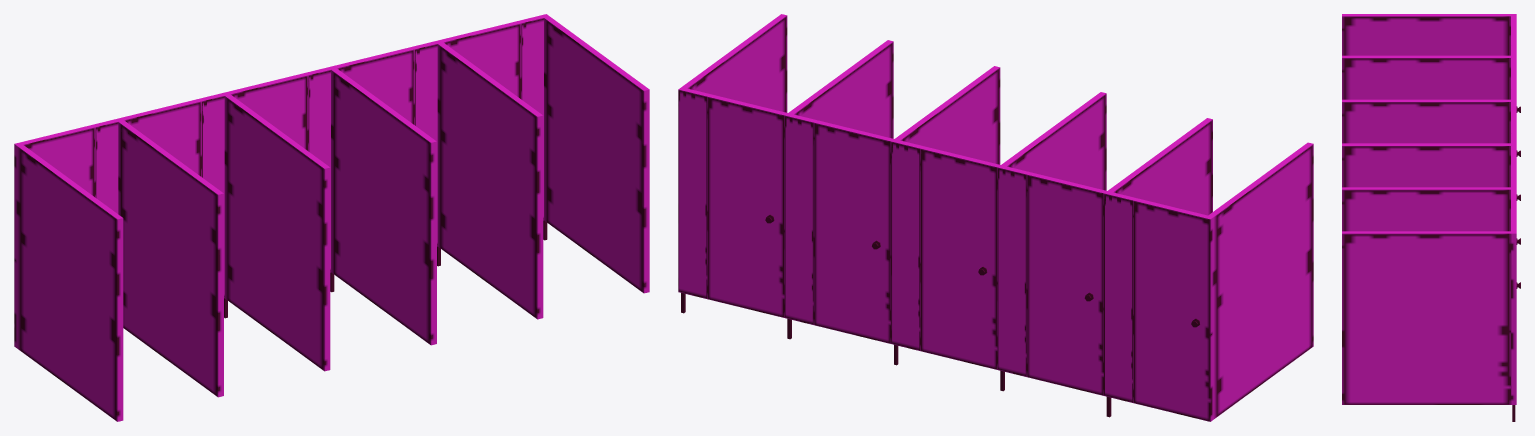
File: wcs.glb
The picture shows the model from 3 angles, left to right: view 1: azimuth 30°, elevation 25°; view 2: azimuth 150°, elevation 25°; view 3: azimuth 270°, elevation 25°; orthographic projection. The views are drawn at different scales.
Visible parts, largest first — view 1: WCDoor.004; view 2: WCDoor.004; view 3: WCDoor.004.
Boxes of the visible parts, x1,y1,x2,y2 form: WCDoor.004: (14, 14, 649, 421); WCDoor.004: (678, 14, 1313, 421); WCDoor.004: (1342, 14, 1520, 421).
Bounding box in the file's own units: 5.5 × 2.21 × 1.89.
Materials: 1 (1 with a texture image).
